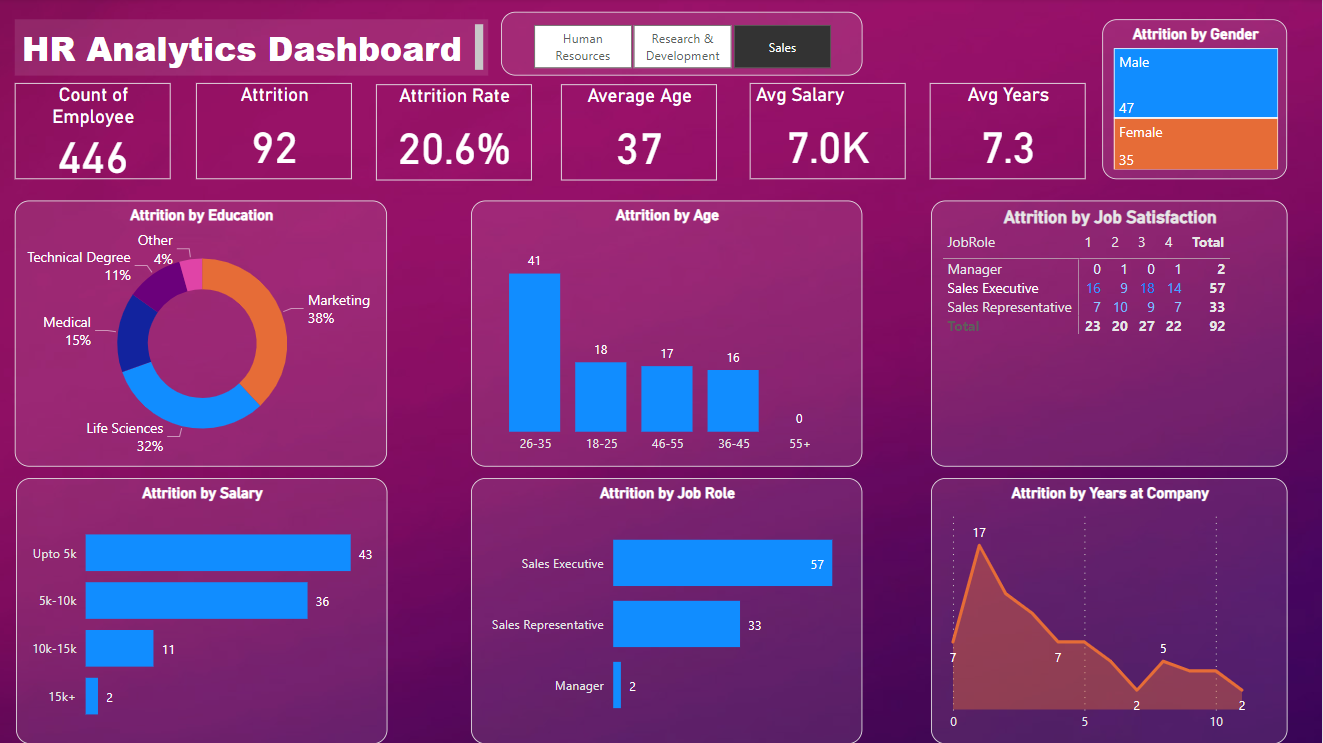

The dashboard page shown, as its layout file describes it:
{"tool":"powerbi","page":{"name":"Page 1","canvas":[1280,720],"ordinal":0},"visuals":[{"type":"card","title":"Count of Employee","fields":{"Values":["Count(HR_Analytics.EmpID)"]},"box":[18.6,81.4,150,92.9],"z":0},{"type":"card","title":"Attrition","fields":{"Values":["Sum(HR_Analytics.AttritionCount)"]},"box":[192.9,81.4,150,92.9],"z":1000},{"type":"card","title":"Average Age","fields":{"Values":["Avg(HR_Analytics.Age)"]},"box":[545.7,82.9,150,92.9],"z":2000},{"type":"card","title":"Attrition Rate","fields":{"Values":["HR_Analytics.AttritionRate"]},"box":[367.1,82.9,150,92.9],"z":3000},{"type":"card","title":"Avg Salary","fields":{"Values":["Avg(HR_Analytics.MonthlyIncome)"]},"box":[727.1,81.4,150,92.9],"z":4000},{"type":"card","title":"Avg Years","fields":{"Values":["Avg(HR_Analytics.YearsAtCompany)"]},"box":[901.4,81.4,150,92.9],"z":5000},{"type":"donutChart","title":"Attrition by Education","fields":{"Category":["HR_Analytics.EducationField"],"Y":["Sum(HR_Analytics.AttritionCount)"]},"box":[18.1,195.4,359.4,256.9],"z":6000},{"type":"columnChart","title":"Attrition by Age","fields":{"Category":["HR_Analytics.AgeGroup"],"Y":["Sum(HR_Analytics.AttritionCount)"]},"box":[458.3,195.4,377.5,256.9],"z":7000},{"type":"pivotTable","title":"Attrition by Job Satisfaction","fields":{"Rows":["HR_Analytics.JobRole"],"Columns":["HR_Analytics.JobSatisfaction"],"Values":["Sum(HR_Analytics.AttritionCount)"]},"box":[902,195.7,344.3,257.1],"z":8000},{"type":"clusteredBarChart","title":"Attrition by Salary","fields":{"Category":["HR_Analytics.SalarySlab"],"Y":["Sum(HR_Analytics.AttritionCount)"]},"box":[19.3,463.1,358.2,256.9],"z":9000},{"type":"clusteredBarChart","title":"Attrition by Job Role","fields":{"Category":["HR_Analytics.JobRole"],"Y":["Sum(HR_Analytics.AttritionCount)"]},"box":[458.3,463.1,377.5,256.9],"z":10000},{"type":"areaChart","title":"Attrition by Years at Company","fields":{"Category":["HR_Analytics.YearsAtCompany"],"Y":["Sum(HR_Analytics.AttritionCount)"]},"box":[902,462.9,344.3,257.1],"z":11000},{"type":"treemap","title":"Attrition by Gender","fields":{"Group":["HR_Analytics.Gender"],"Values":["Sum(HR_Analytics.AttritionCount)"]},"box":[1067.7,20,178.6,154.3],"z":12000},{"type":"slicer","fields":{"Values":["HR_Analytics.Department"]},"box":[487.7,12.9,348.6,61.4],"z":13000},{"type":"textbox","box":[18.6,20,457.1,54.3],"z":14000}]}

Visuals, with their boxes in screenshot pixels (x1, y1, x2, y2), scaled from the page's 1280x720 canvas onto the 1323x743 screenshot:
"Count of Employee" card: (19, 84, 174, 180)
"Attrition" card: (199, 84, 354, 180)
"Average Age" card: (564, 86, 719, 181)
"Attrition Rate" card: (379, 86, 534, 181)
"Avg Salary" card: (752, 84, 907, 180)
"Avg Years" card: (932, 84, 1087, 180)
"Attrition by Education" donutChart: (19, 202, 390, 467)
"Attrition by Age" columnChart: (474, 202, 864, 467)
"Attrition by Job Satisfaction" pivotTable: (932, 202, 1288, 467)
"Attrition by Salary" clusteredBarChart: (20, 478, 390, 742)
"Attrition by Job Role" clusteredBarChart: (474, 478, 864, 742)
"Attrition by Years at Company" areaChart: (932, 478, 1288, 742)
"Attrition by Gender" treemap: (1104, 21, 1288, 180)
slicer - HR_Analytics.Department: (504, 13, 864, 77)
textbox: (19, 21, 492, 77)
